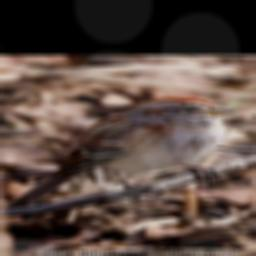Sparrow: (3, 93, 237, 221)
